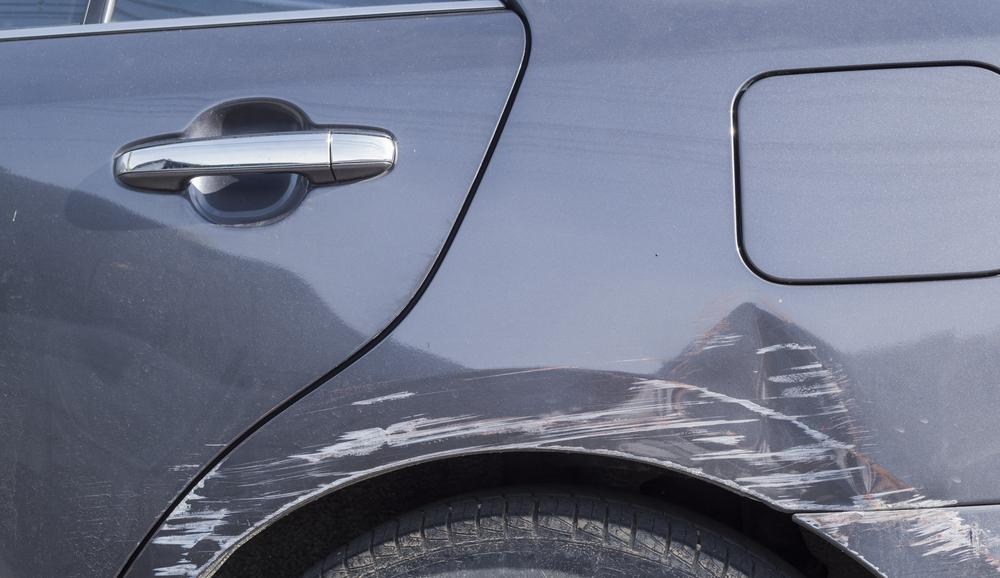dent: (675, 304, 858, 466)
scratch: (147, 359, 964, 578), (797, 505, 1000, 578)
